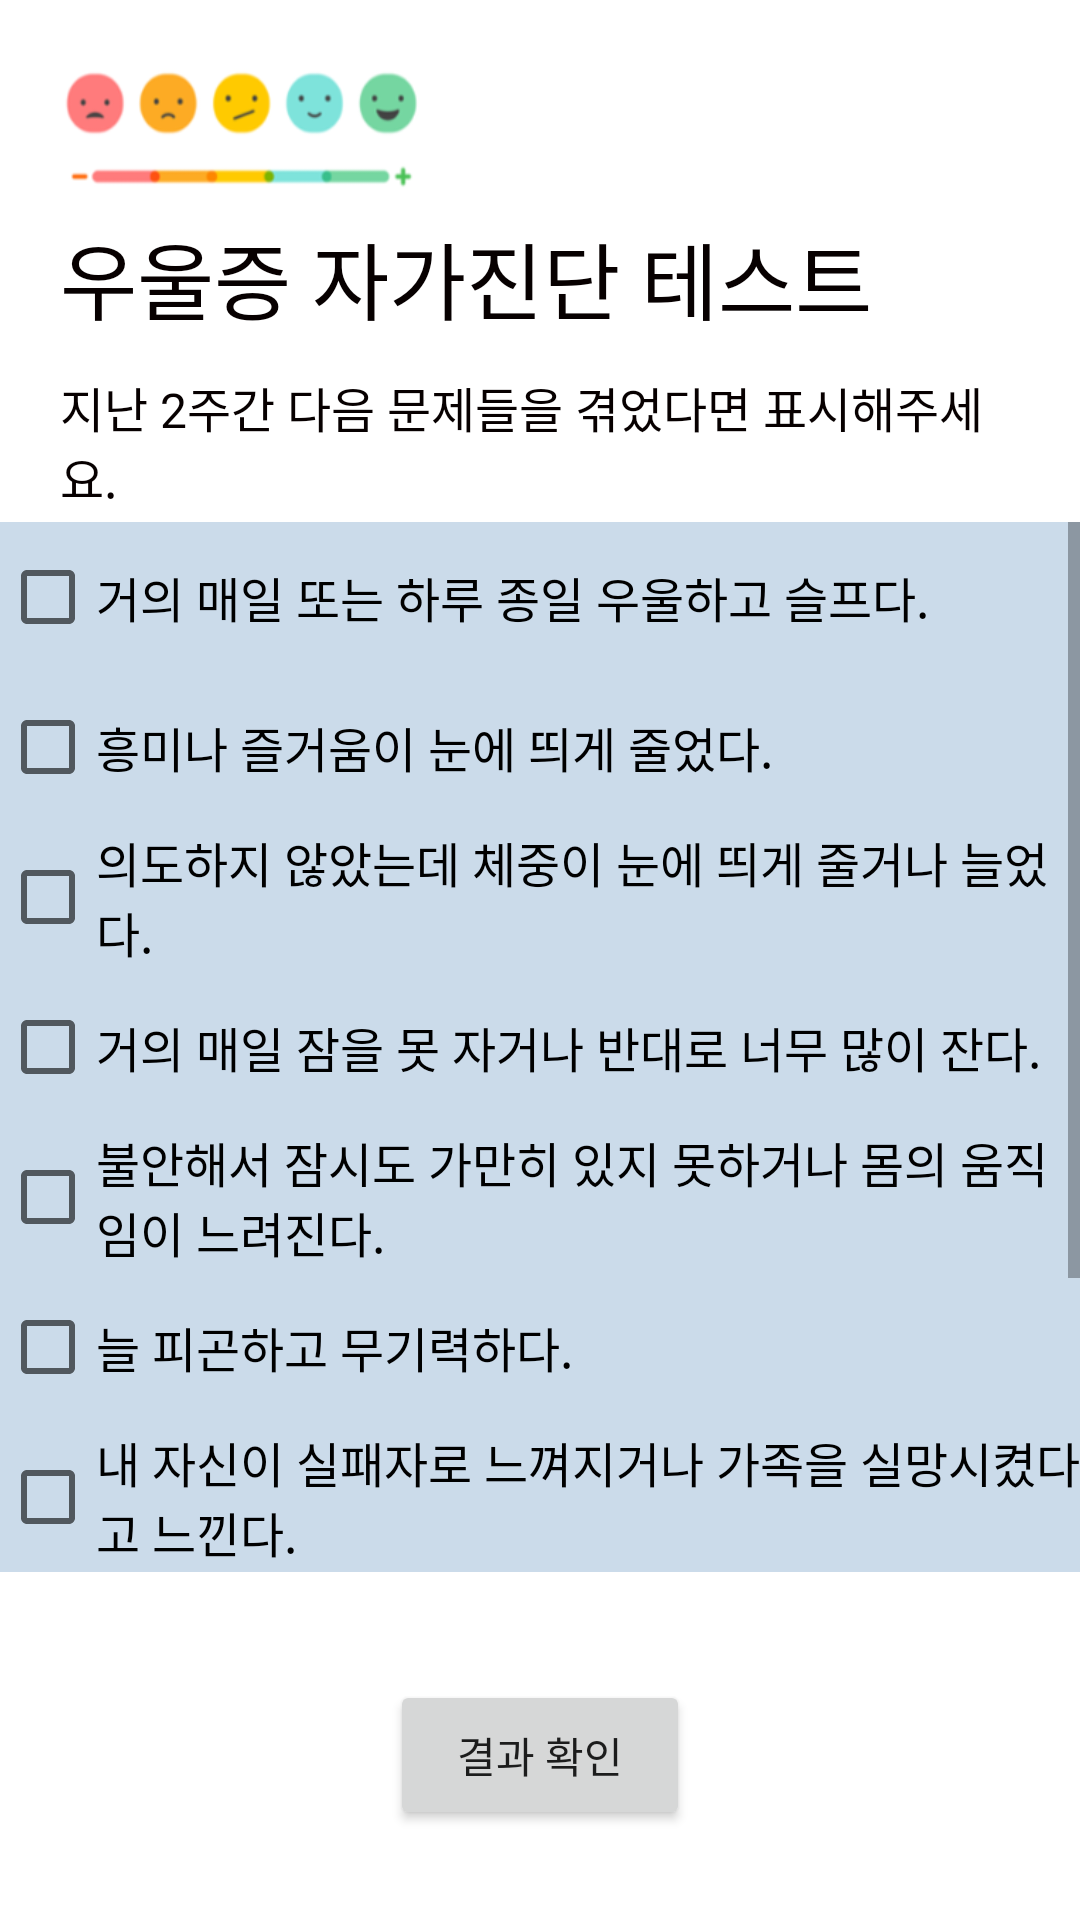

Screen size 1080px×1920px. Icon name, then its box in pixels as rect(x1, y1, x2, y2):
imoticon: rect(66, 72, 417, 186)
